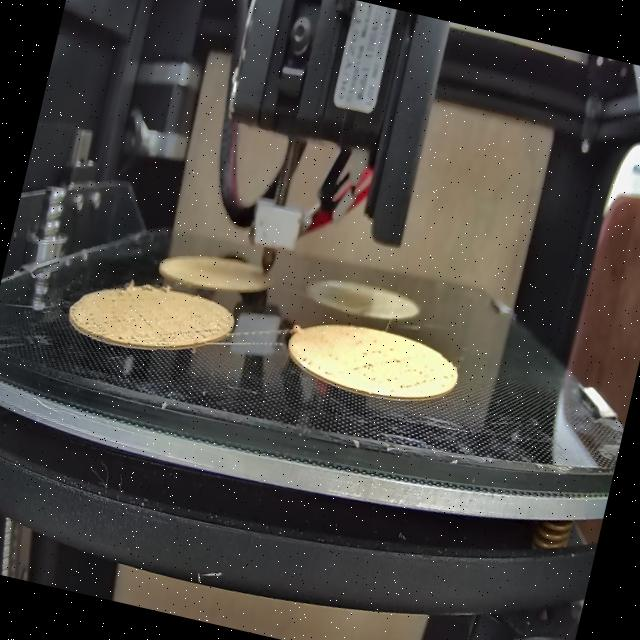under_extrusion: (345, 330, 438, 398), (84, 290, 165, 352), (172, 316, 218, 352), (297, 348, 335, 383)
